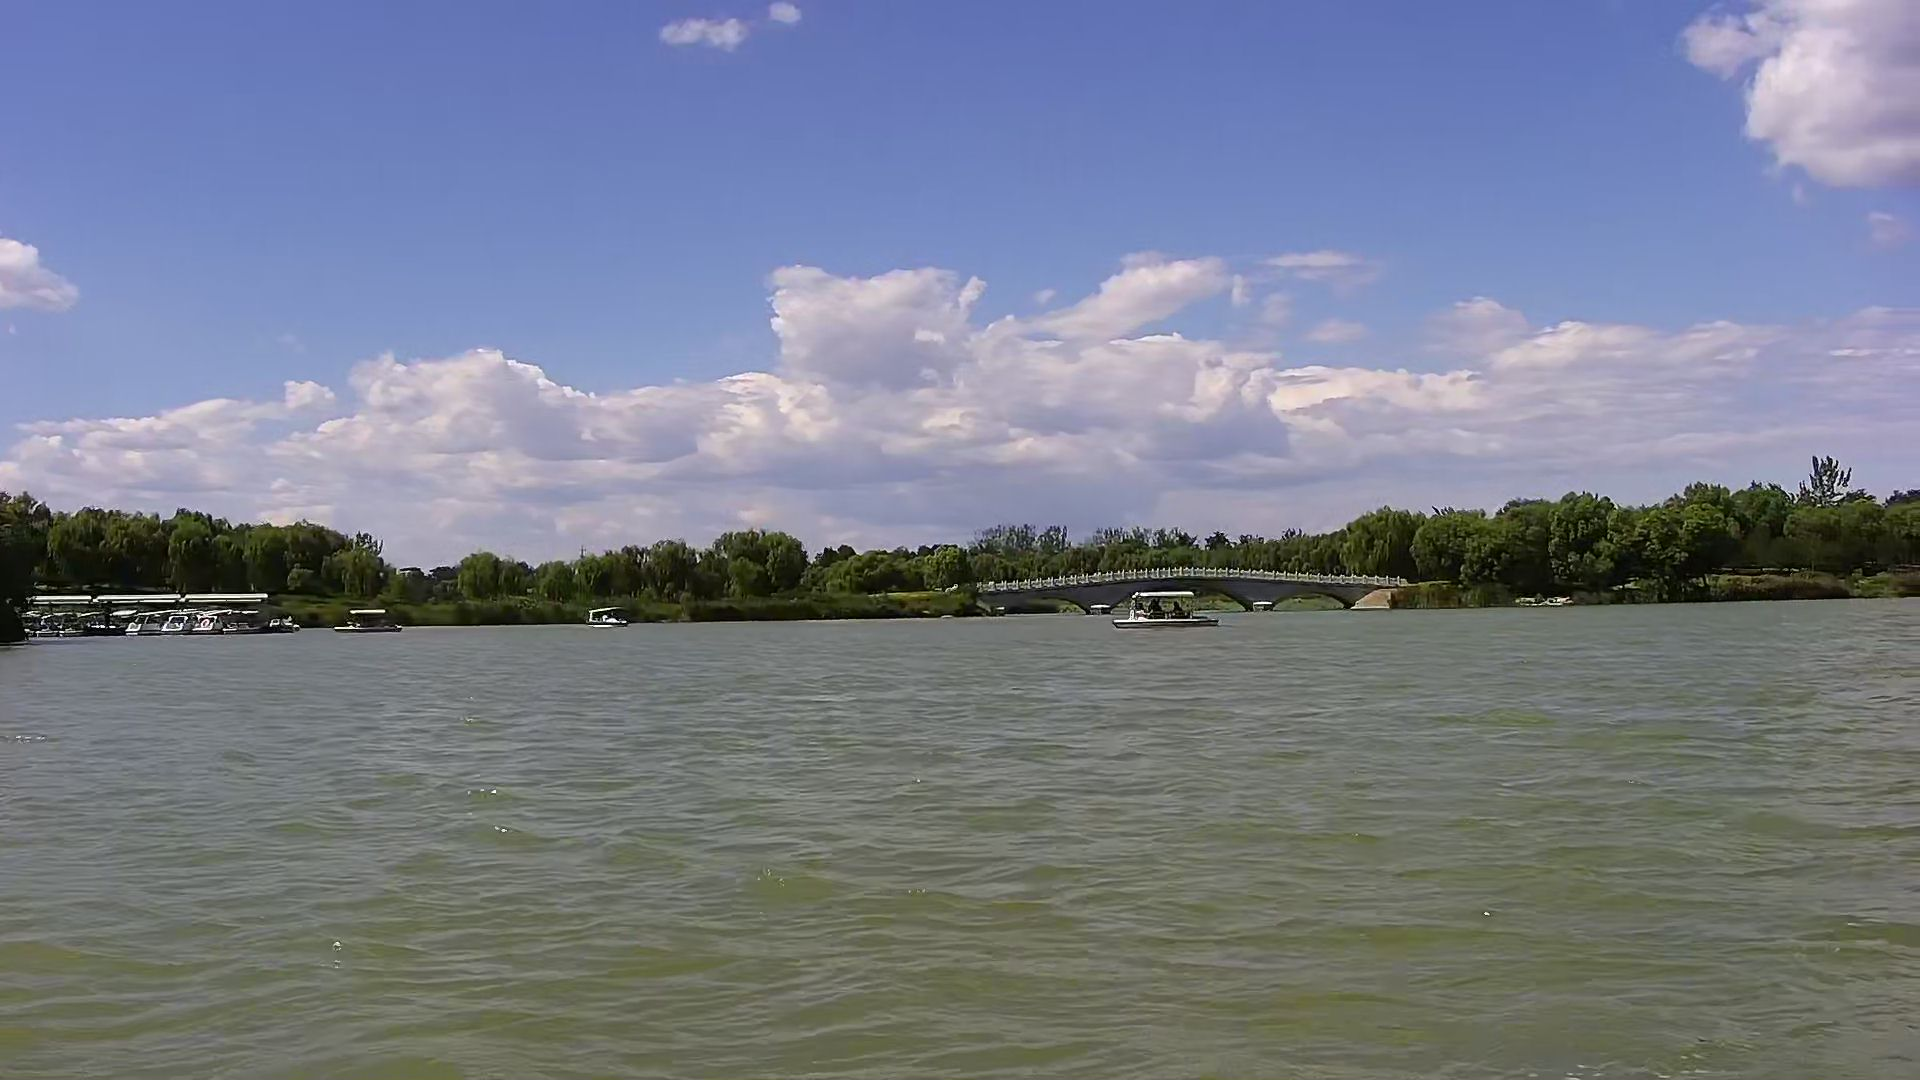boat: (1116, 589, 1222, 632), (334, 607, 404, 636), (585, 603, 629, 629)
bridge: (981, 564, 1404, 616)
harbor: (33, 585, 306, 640)
